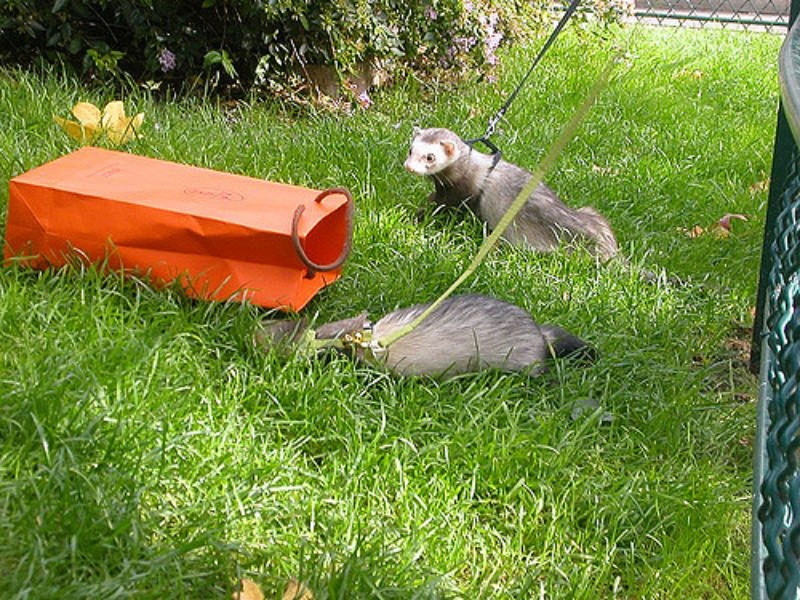minkish: (401, 119, 647, 278), (250, 302, 609, 387)
